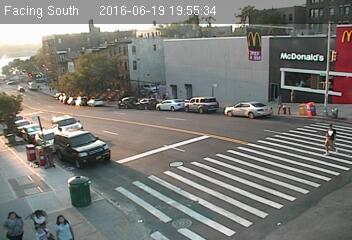neg: (44, 91, 72, 129), (74, 169, 101, 205), (110, 67, 135, 100), (25, 139, 49, 172), (172, 73, 196, 104), (177, 202, 200, 233), (239, 112, 262, 143), (244, 32, 267, 62), (182, 110, 204, 139), (78, 112, 100, 141), (220, 164, 242, 193), (322, 46, 340, 71), (164, 162, 182, 186), (73, 65, 91, 88), (220, 57, 236, 79), (306, 94, 322, 115), (127, 122, 143, 143), (303, 49, 318, 68), (28, 48, 41, 65), (227, 86, 239, 101), (333, 102, 343, 116)
pos: (319, 123, 344, 156), (7, 208, 25, 231), (53, 213, 70, 236)
